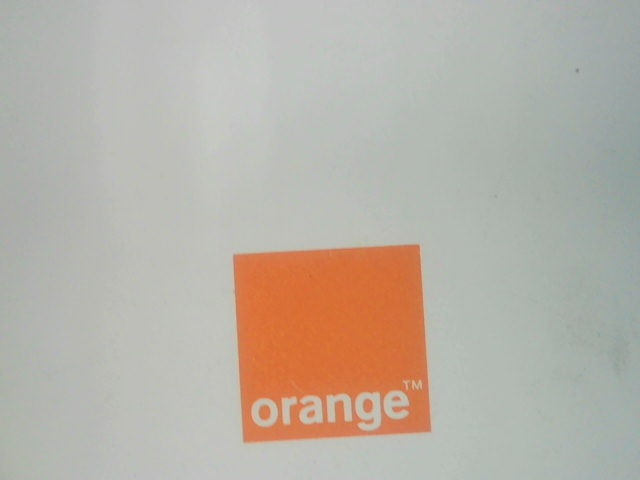AR_Orange: (222, 241, 438, 446)
